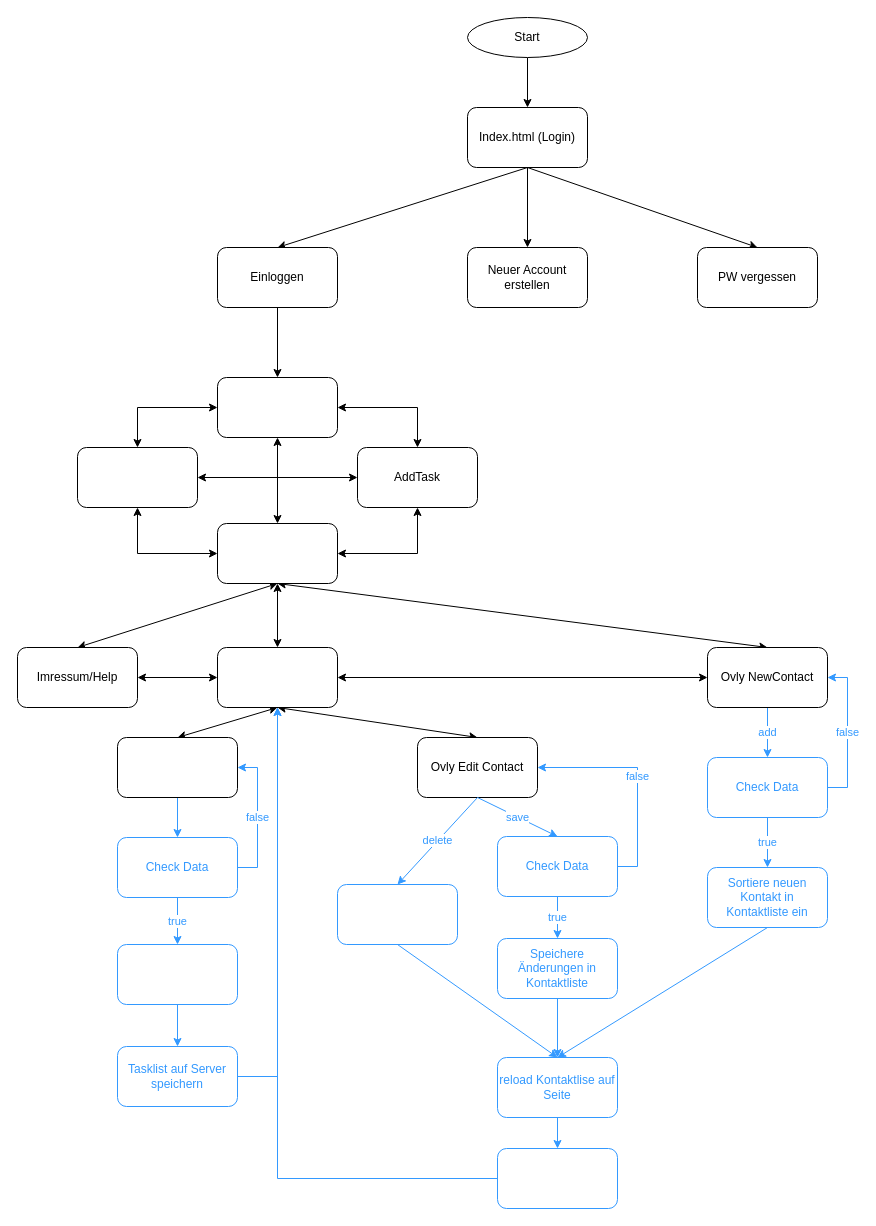
Image size: 876x1226. Some labels were removed from this diagram. Here are the shapes that lost their labels. From the top down, the centre of each, then its label:
the point at 277,407: Summary
the point at 137,477: Board
the point at 277,553: Contacts loadKontake from Server
the point at 277,677: Contact Details
the point at 177,767: Ovly AddTask loadTasks from Server
the point at 397,914: Lösche Contact aus Liste
the point at 177,974: Task in Tasklist einsortieen
the point at 557,1178: Kontaktlsite auf Server speichern
